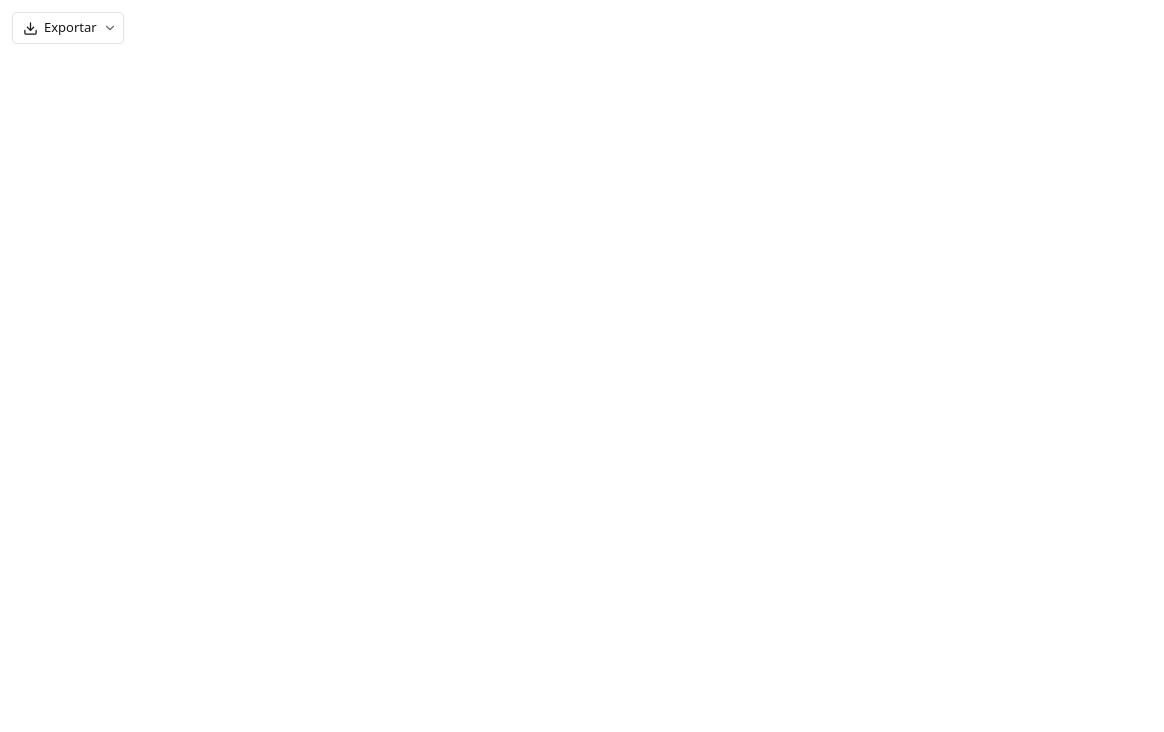
menú Exportar (D11) › con errores sintácticos, explica que falta llegar al semántico
Click the button "Exportar" at [68, 28], box [12,12,124,44]
(page scrolled)
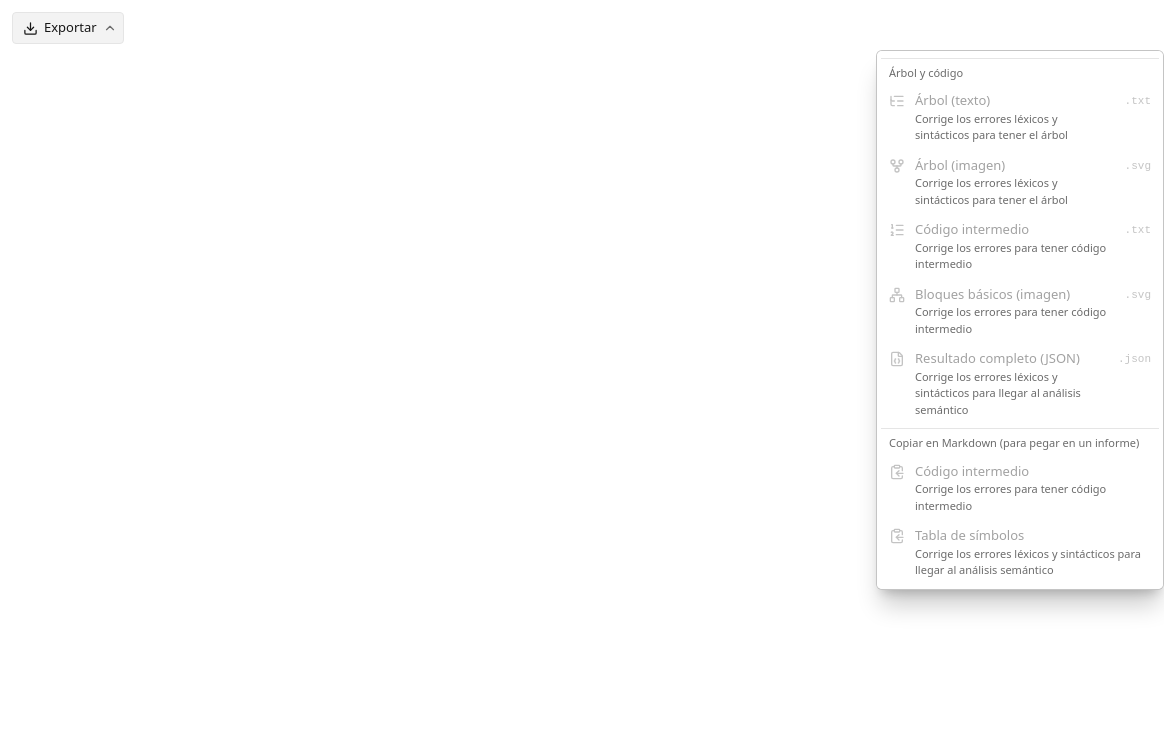
Check: the menu item "Código intermedio" shows "Corrige los errores para tener código intermedio", box [881,456,1159,520]
